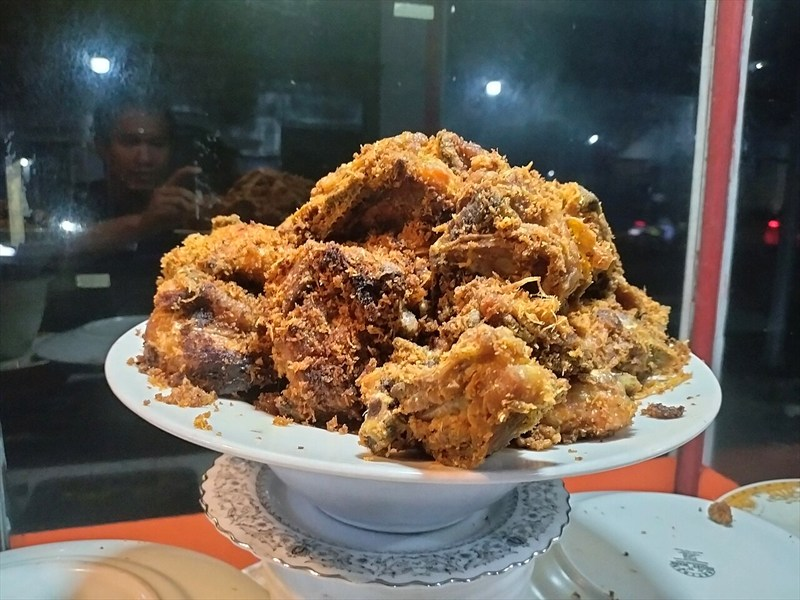Ayam Goreng: (127, 134, 698, 491)
